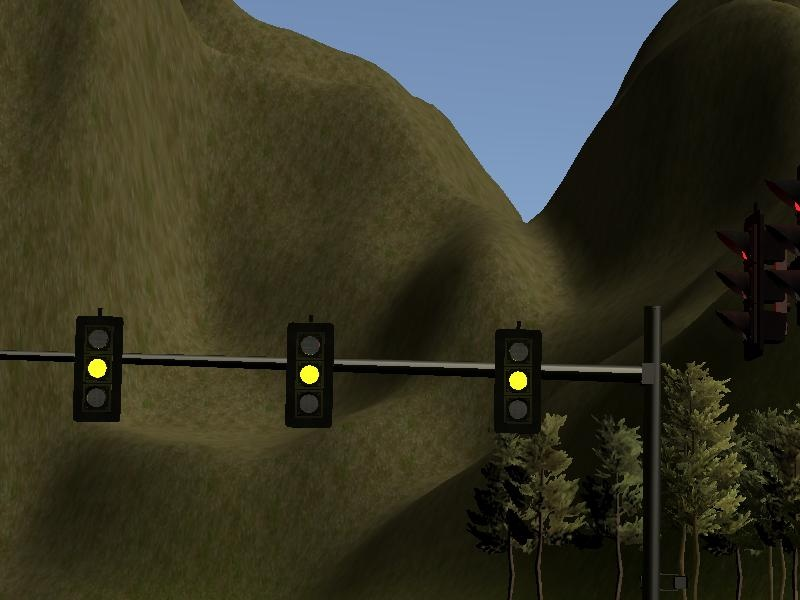YELLOW: (72, 316, 124, 424), (283, 321, 335, 429), (490, 325, 542, 433)
